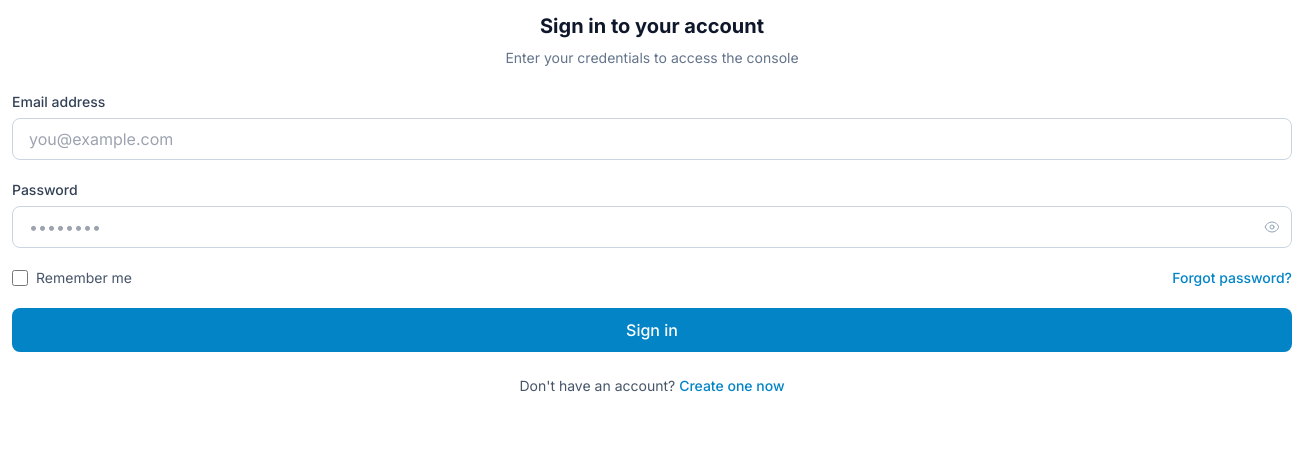
Auth Flow - Login Page › shows validation errors for empty fields
The width and height of the screenshot is (1304, 461).
Click the button "Sign in" at (652, 330), box [12,308,1292,352]
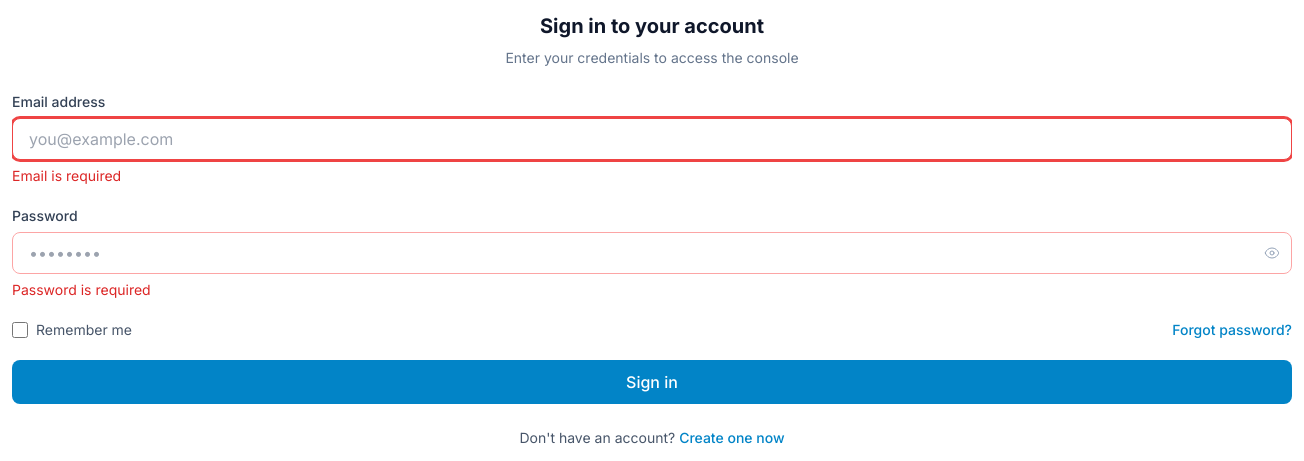
Check: the text "Email is required" is shown, box [12,167,121,184]
Check: the text "Password is required" is shown, box [12,281,151,298]
